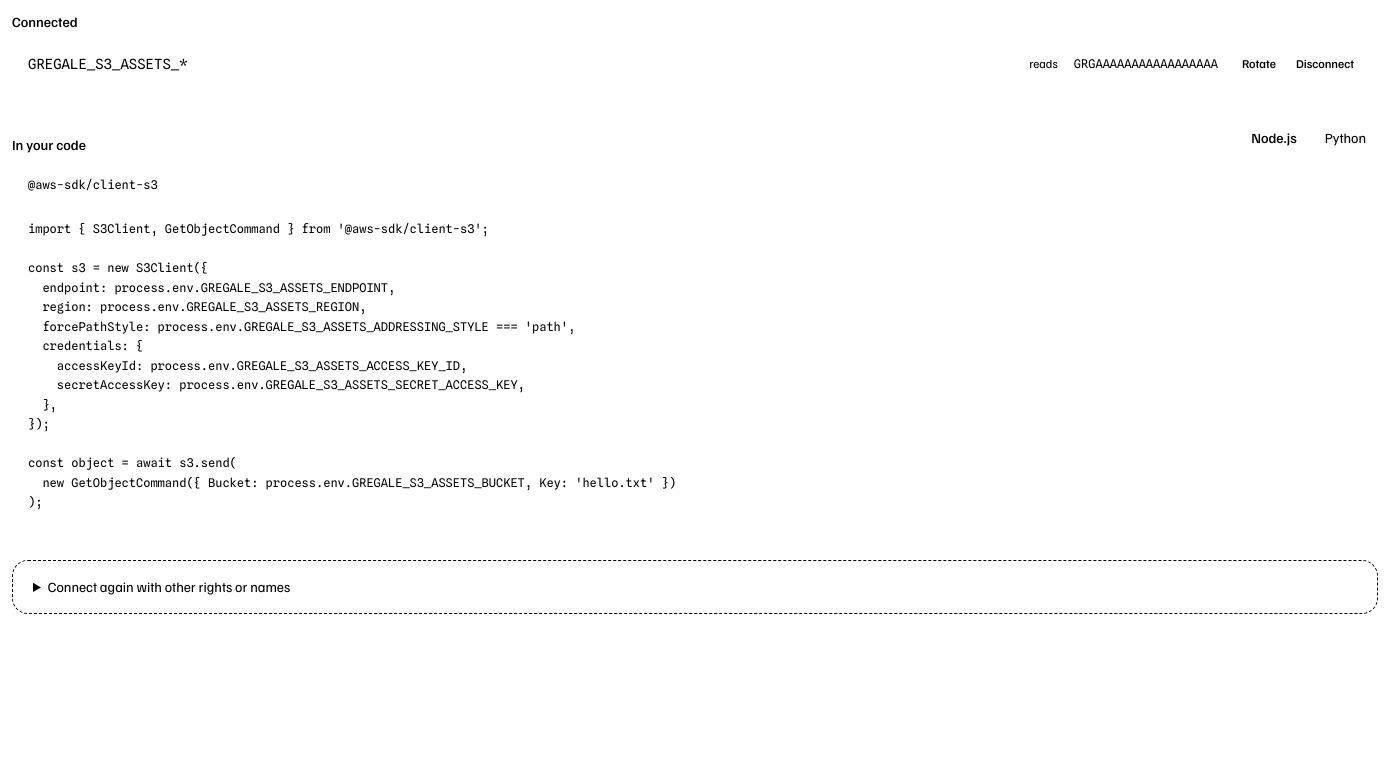
Scenario: Use from code › shows code that reads the injected variables, in Node and Python
The width and height of the screenshot is (1390, 780).
Expected: the text "process.env.GREGALE_S3_ASSETS_ENDPOINT" is shown, [28,221,676,509]
Step 1. Click the tab "Python" → (1345, 138), box [1313,120,1378,156]
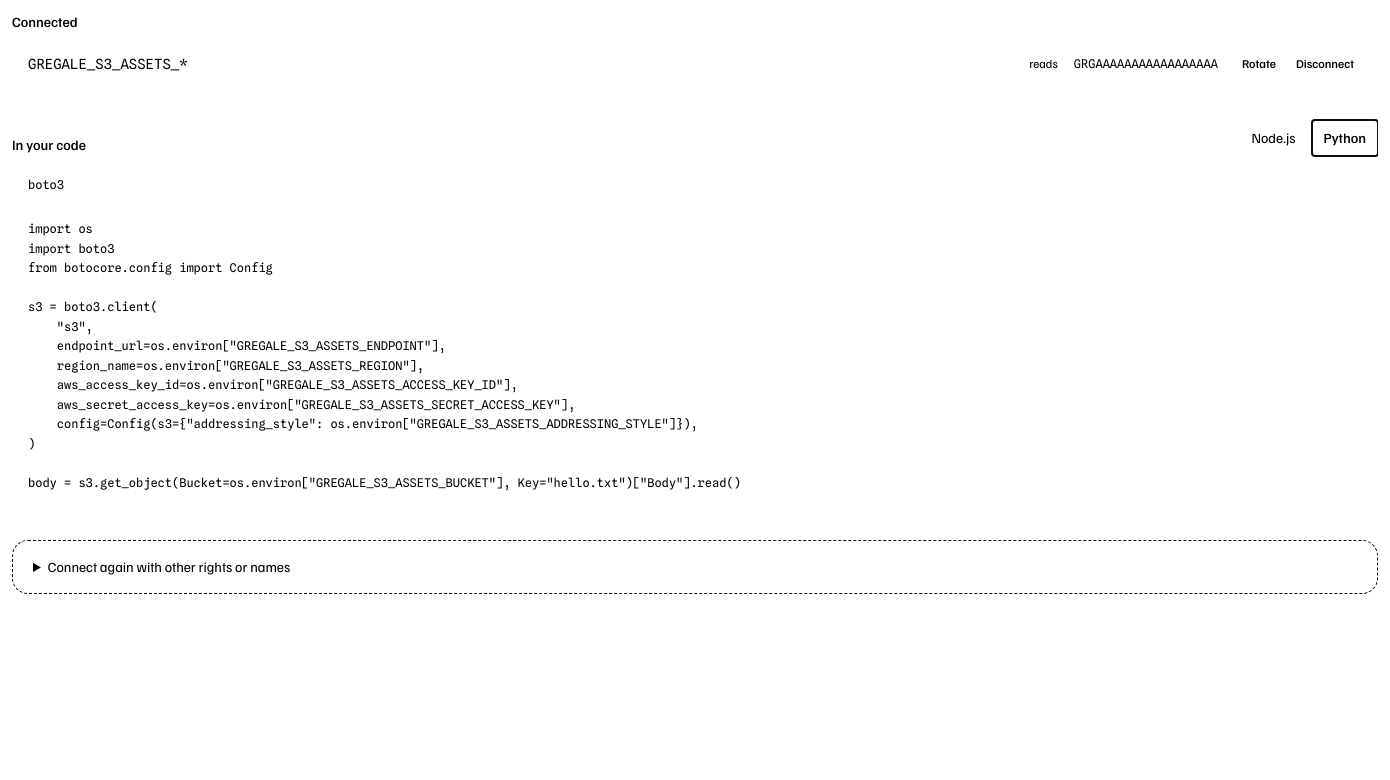
Result: the text "os.environ[\"GREGALE_S3_ASSETS_BUCKET\"]" is shown at [28,221,741,490]
